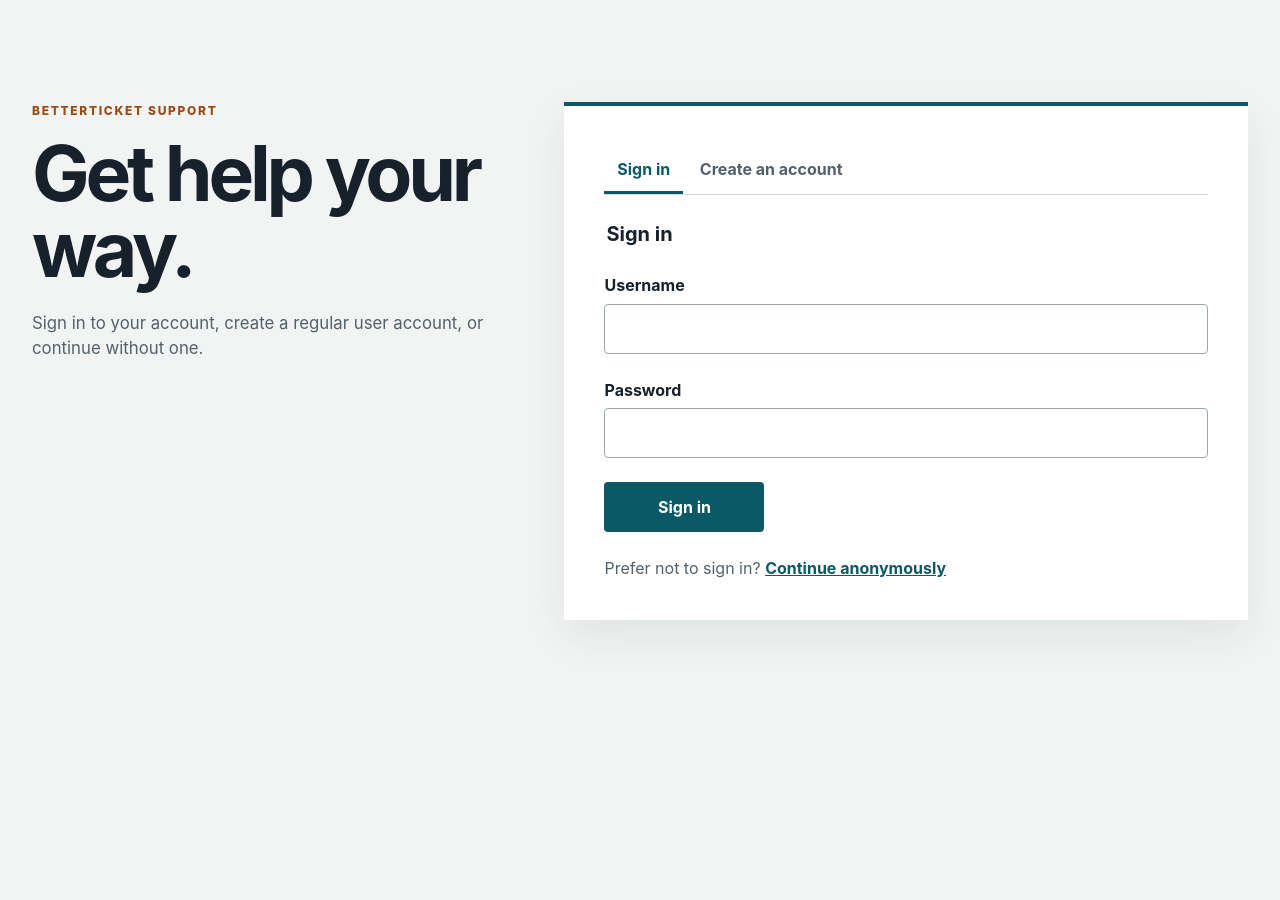
Scenario: AuthGateway › does not submit registration until passwords match
Click the tab "Create an account" at (771, 170), box x1=687 y1=146 x2=855 y2=194
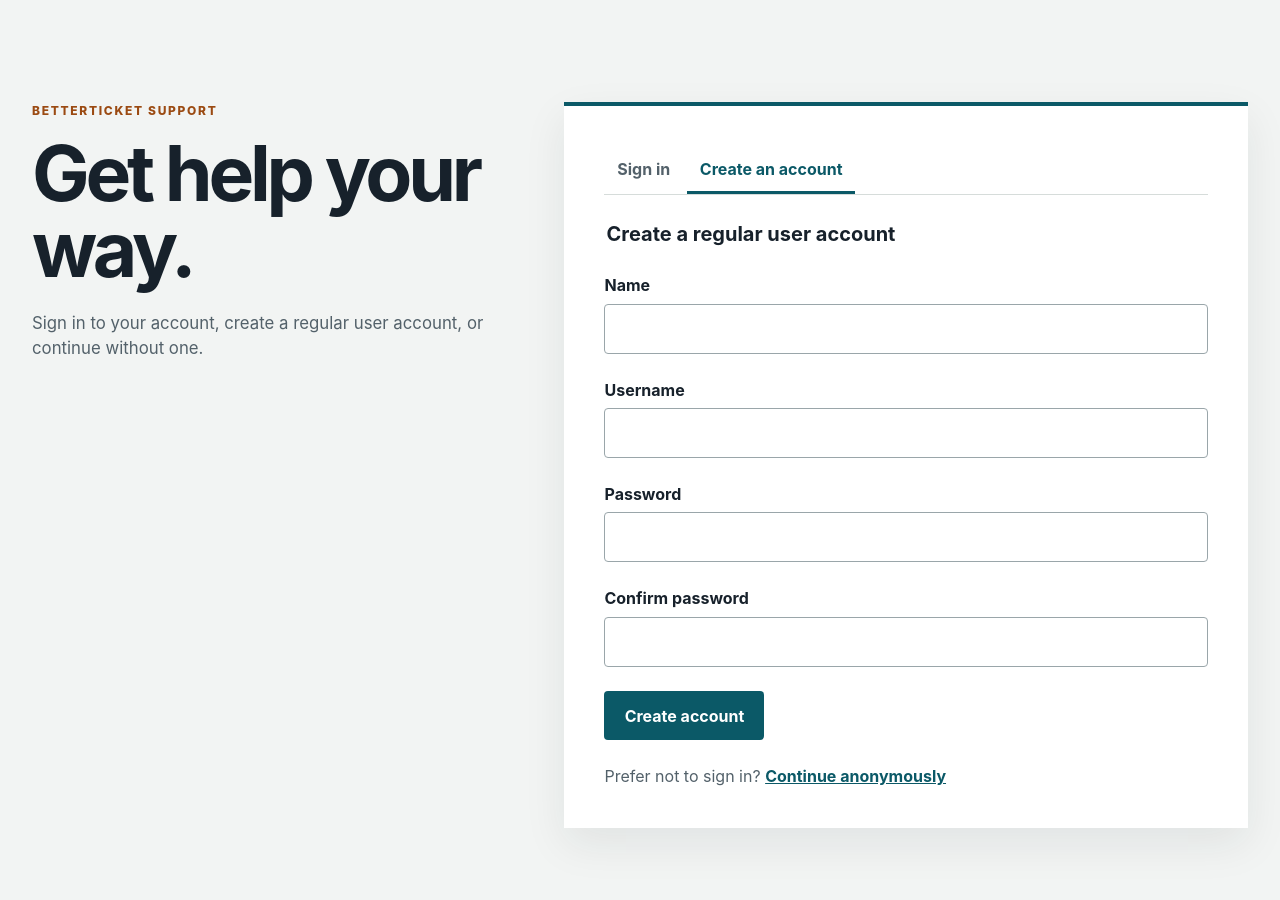
Type "Uma User" into the field labelled "Name" at (906, 329), box x1=604 y1=304 x2=1208 y2=354
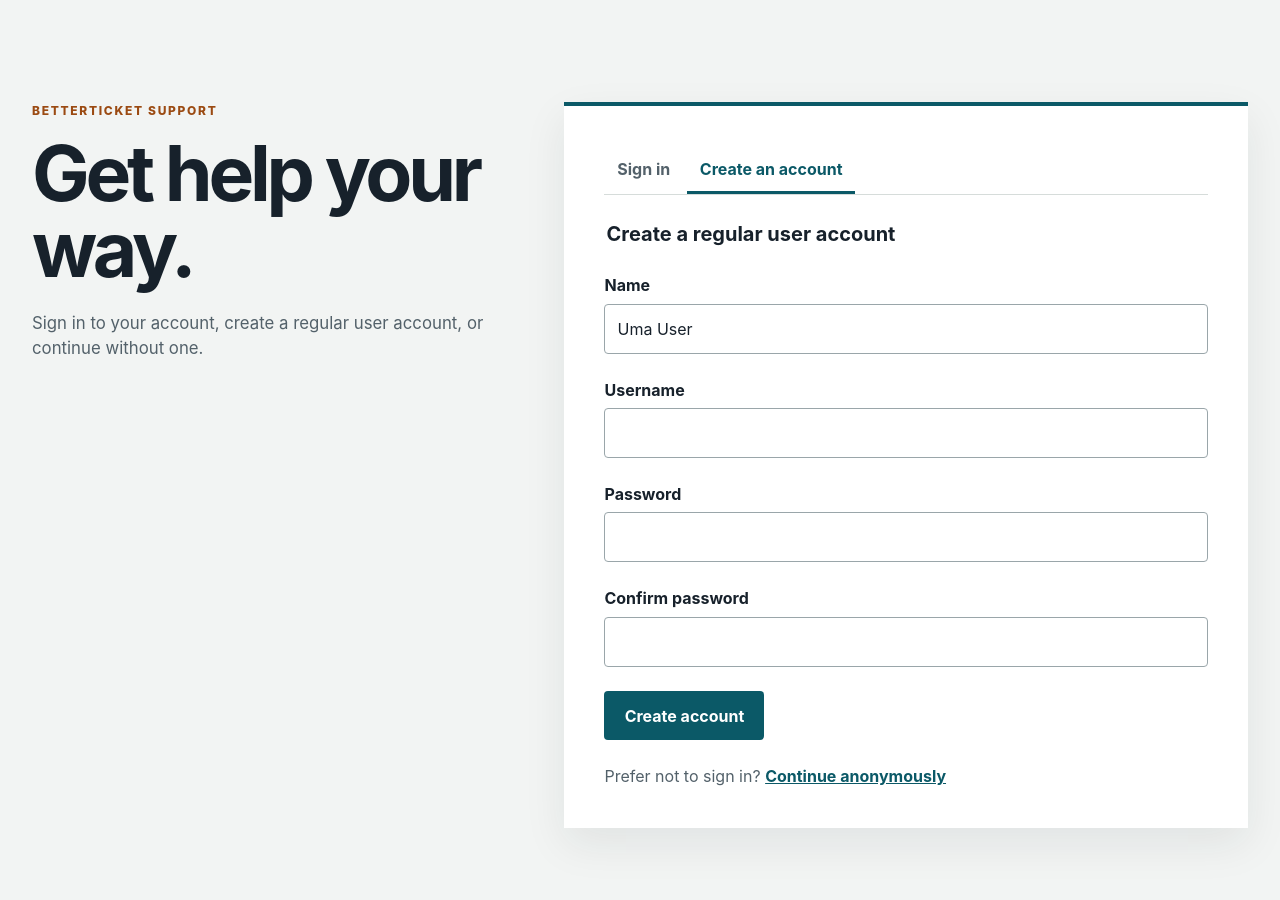
Type "uma" into the field labelled "Username" at (906, 433), box x1=604 y1=408 x2=1208 y2=458
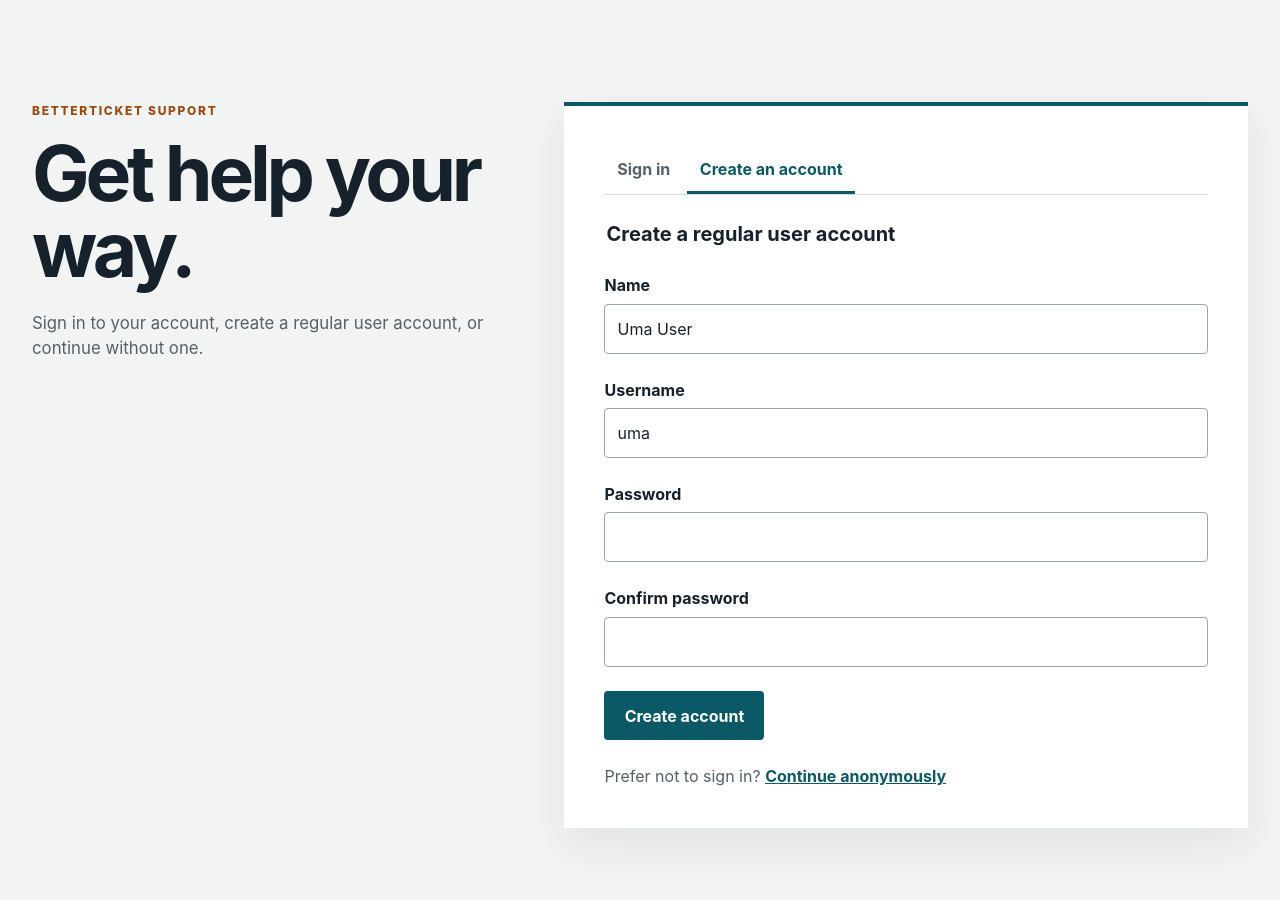
Type "password one" into the password field labelled "Password" at (906, 537), box x1=604 y1=512 x2=1208 y2=562
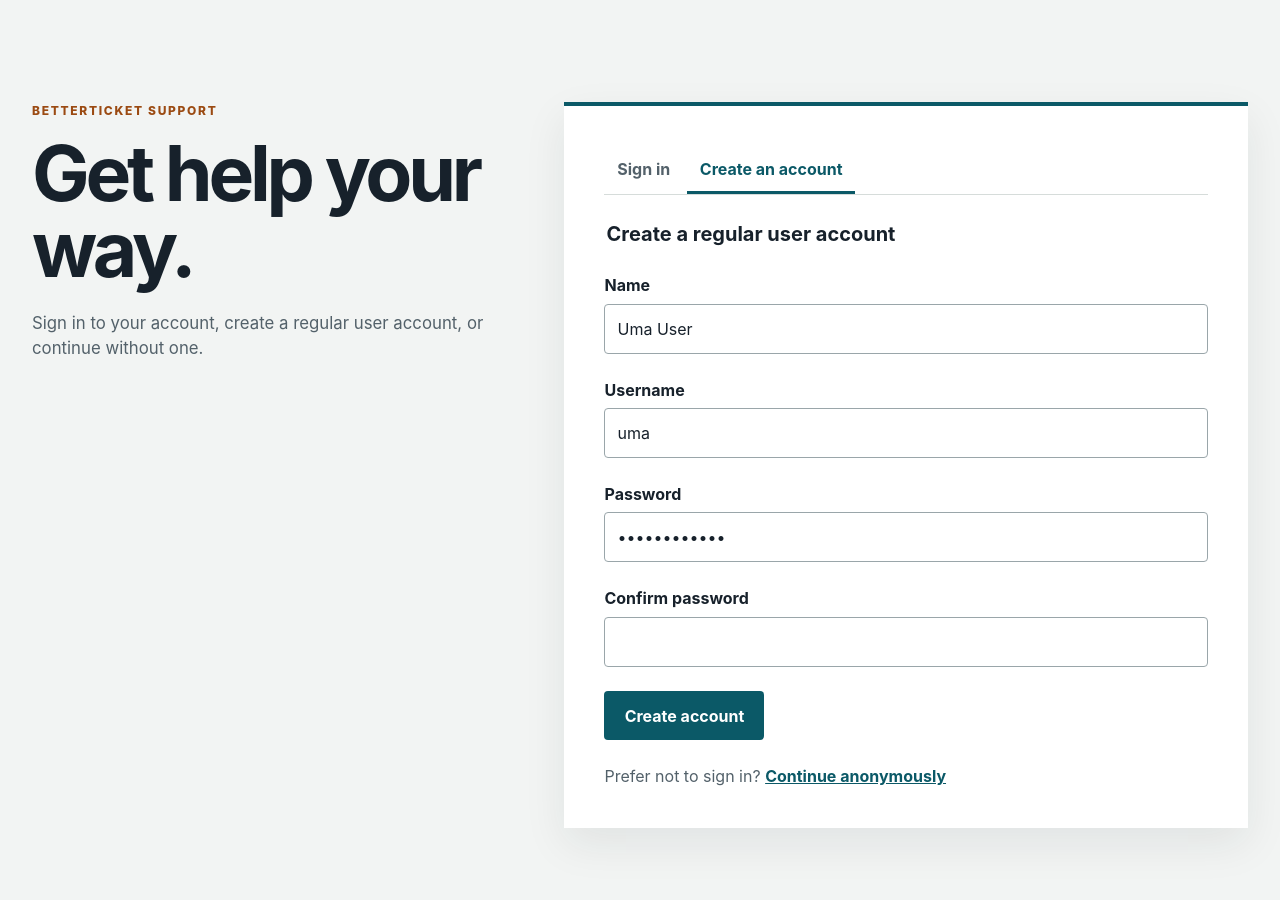
Type "password two" into the password field labelled "Confirm password" at (906, 642), box x1=604 y1=617 x2=1208 y2=667
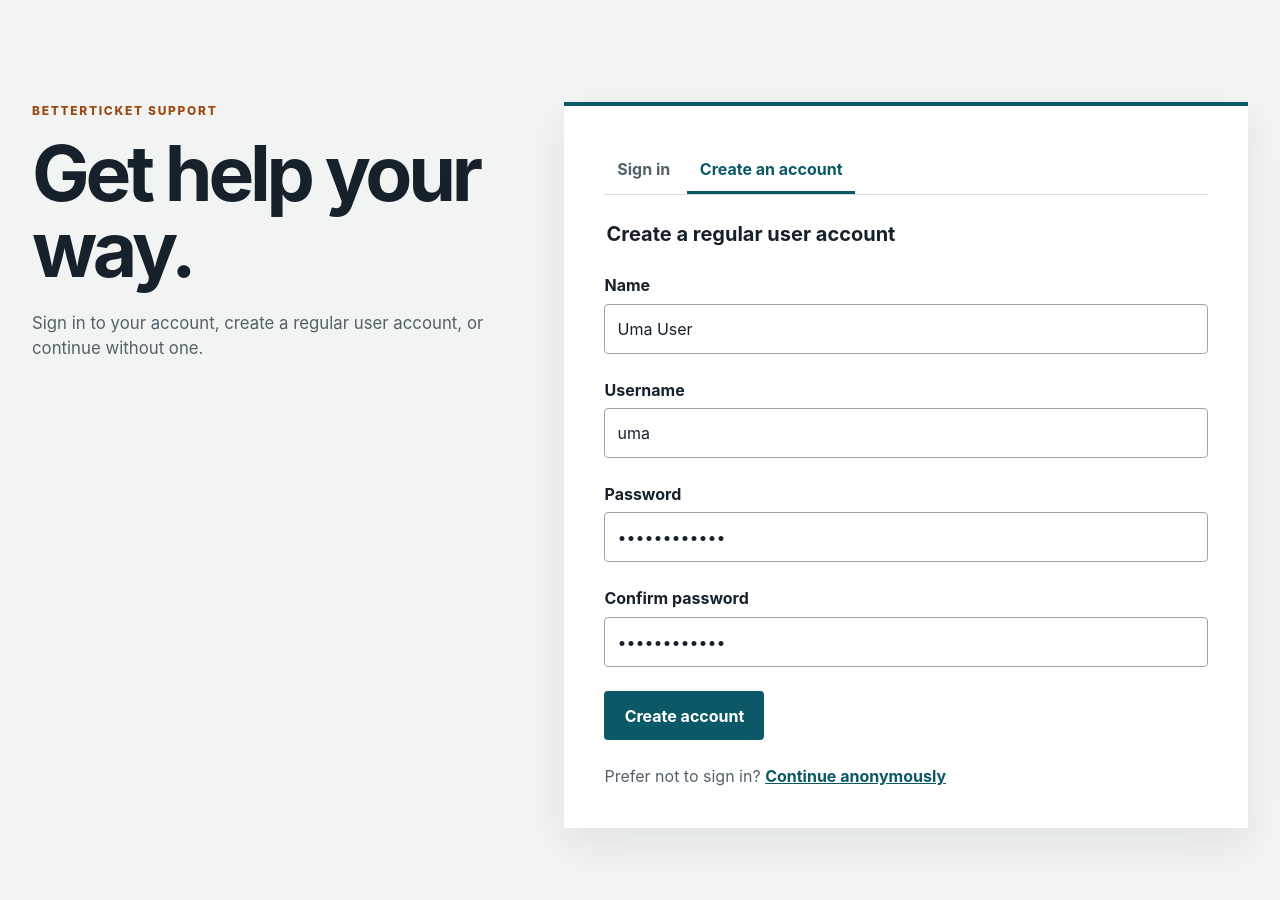
Click the button "Create account" at (684, 716), box x1=604 y1=691 x2=764 y2=740
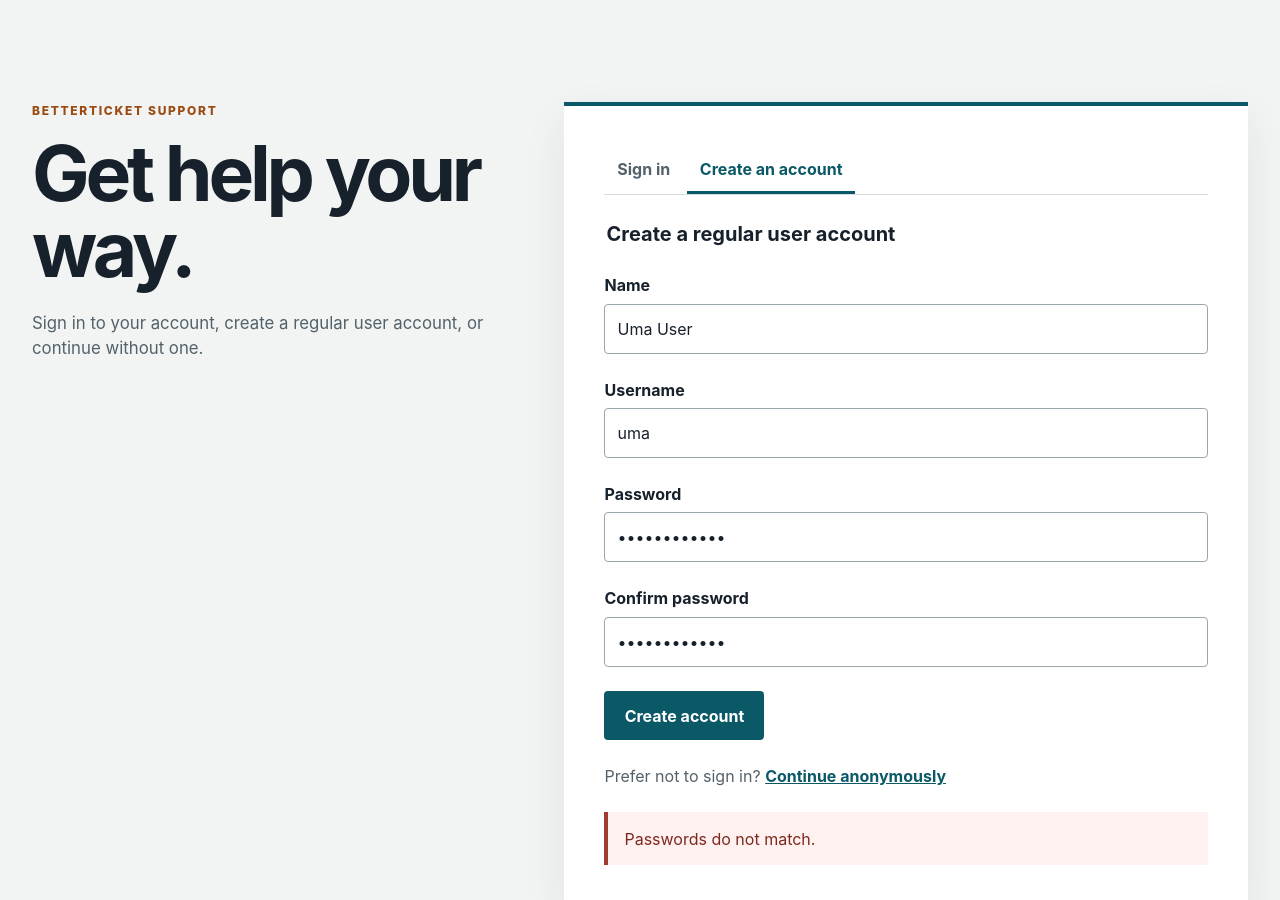
Expected: the message reads "Passwords do not match.", x1=624 y1=829 x2=816 y2=849
